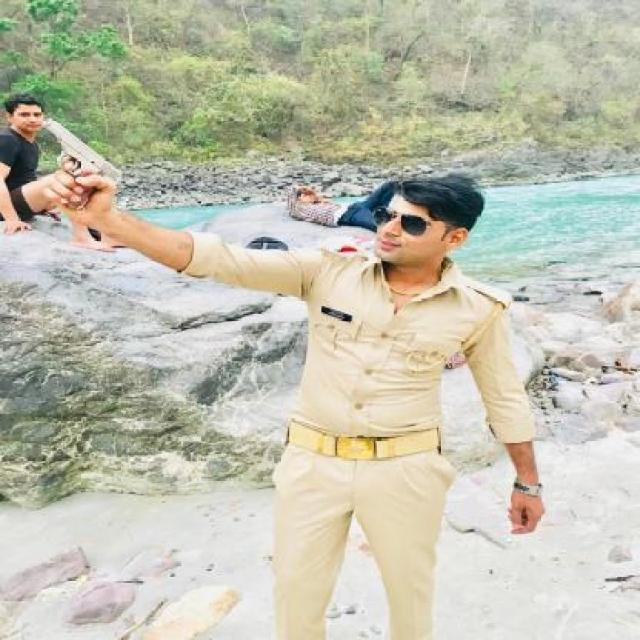Handgun: (37, 115, 128, 214)
